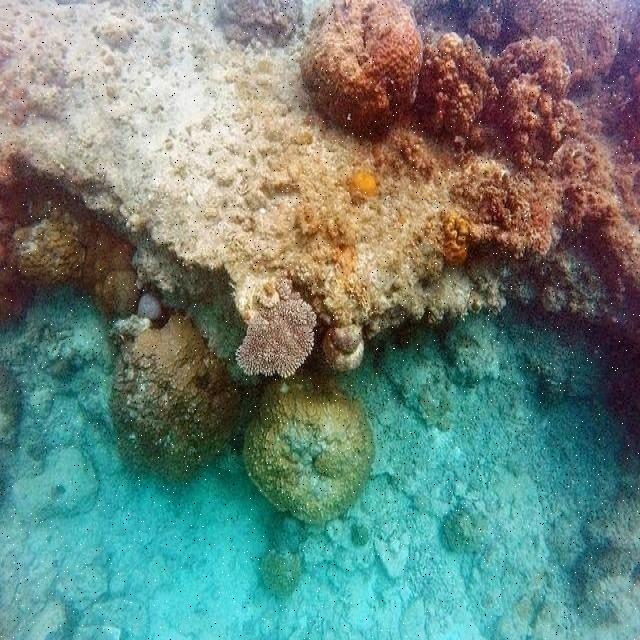reefs: (107, 314, 241, 487), (409, 29, 571, 167), (243, 383, 375, 525), (301, 0, 422, 139), (236, 299, 316, 377)
